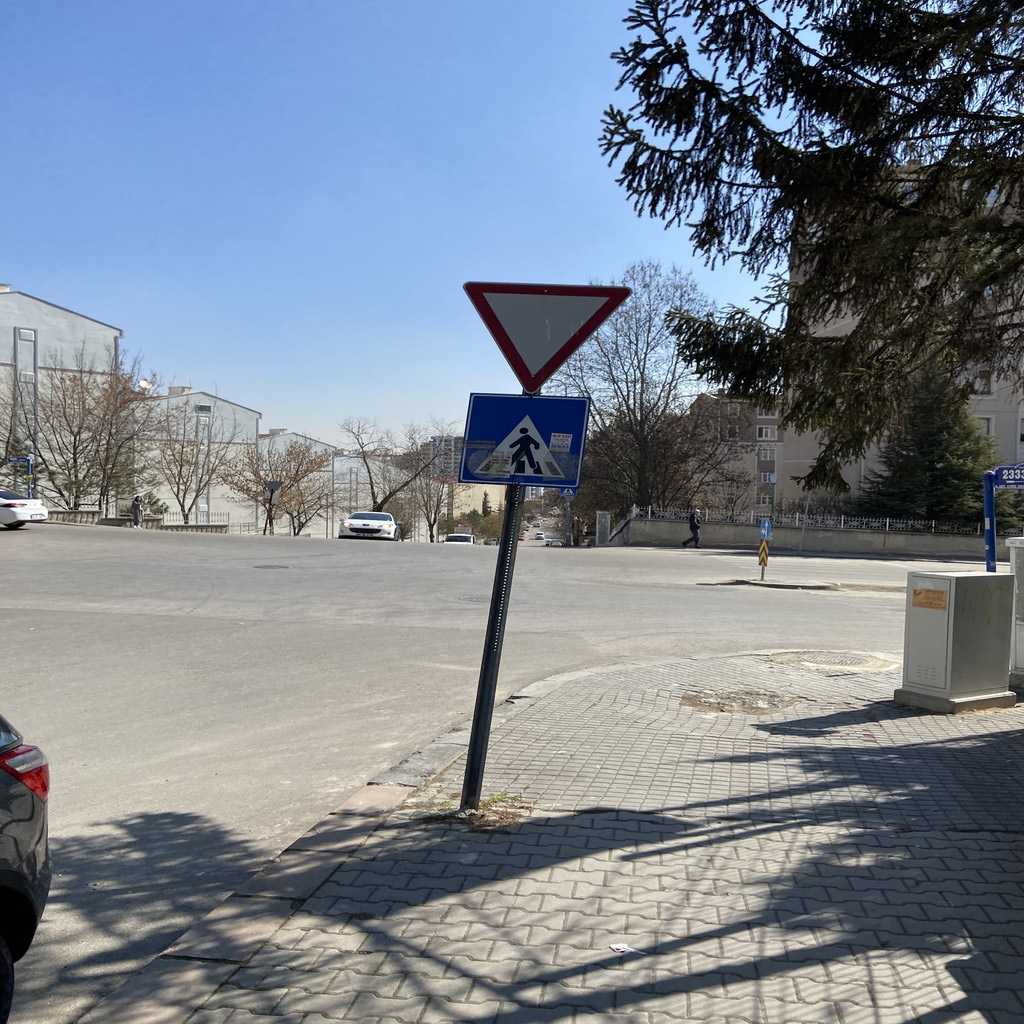Yaya Gecidi: (468, 393, 582, 485)
Yol Ver: (454, 262, 631, 387)
